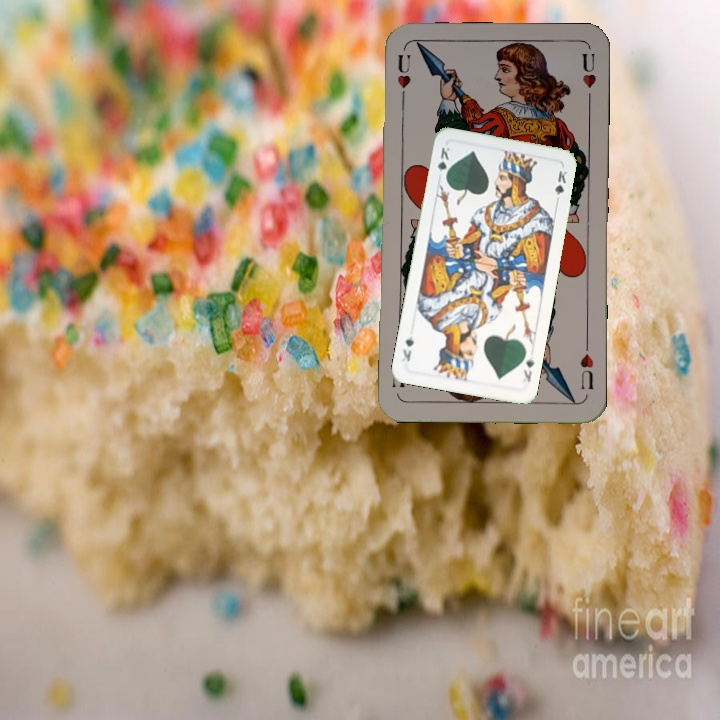GK: (434, 143, 452, 183), (518, 352, 537, 384)
HU: (576, 338, 596, 393), (393, 51, 413, 106)
